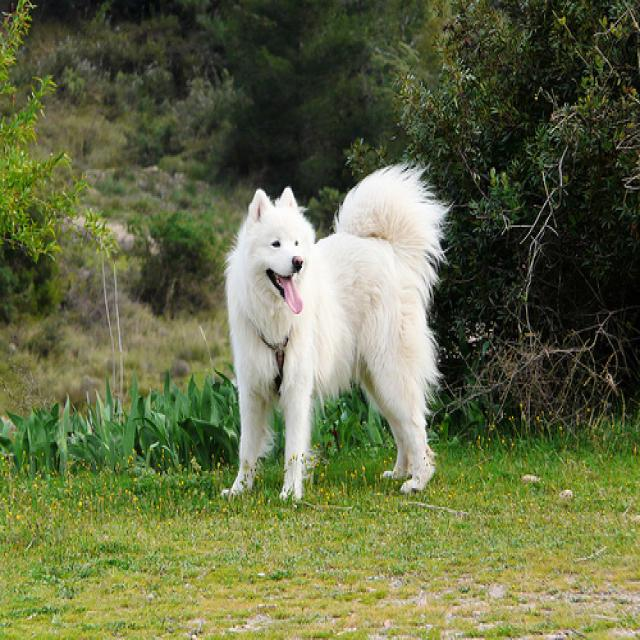dog: (242, 183, 308, 312)
